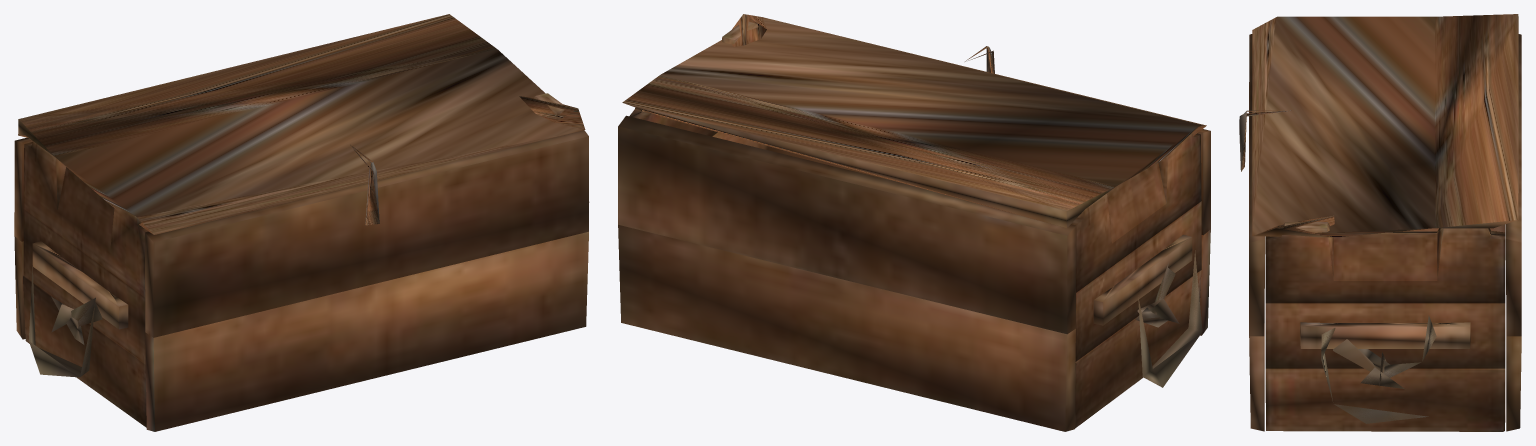
The model's file is wooden_crate_01.glb.
3 views of the same model, side by side, from view 1: azimuth 30°, elevation 25°; view 2: azimuth 150°, elevation 25°; view 3: azimuth 270°, elevation 25° (orthographic). The views are drawn at different scales.
Parts seen in each view (by area): view 1: wooden_crate_01, wooden_crate_01_lid, wooden_crate_01_latch; view 2: wooden_crate_01, wooden_crate_01_lid; view 3: wooden_crate_01_lid, wooden_crate_01, wooden_crate_01_latch.
Boxes of the visible parts, bbox=[...] form: wooden_crate_01: bbox=[14, 93, 589, 431]; wooden_crate_01_lid: bbox=[18, 14, 585, 234]; wooden_crate_01_latch: bbox=[350, 145, 379, 225]; wooden_crate_01: bbox=[618, 22, 1210, 431]; wooden_crate_01_lid: bbox=[622, 14, 1206, 228]; wooden_crate_01_lid: bbox=[1252, 14, 1518, 237]; wooden_crate_01: bbox=[1249, 34, 1521, 431]; wooden_crate_01_latch: bbox=[1239, 110, 1290, 171].
Size of the model in its own units: 0.8135 by 0.342 by 0.3995.
Materials: 1 (1 with a texture image).
